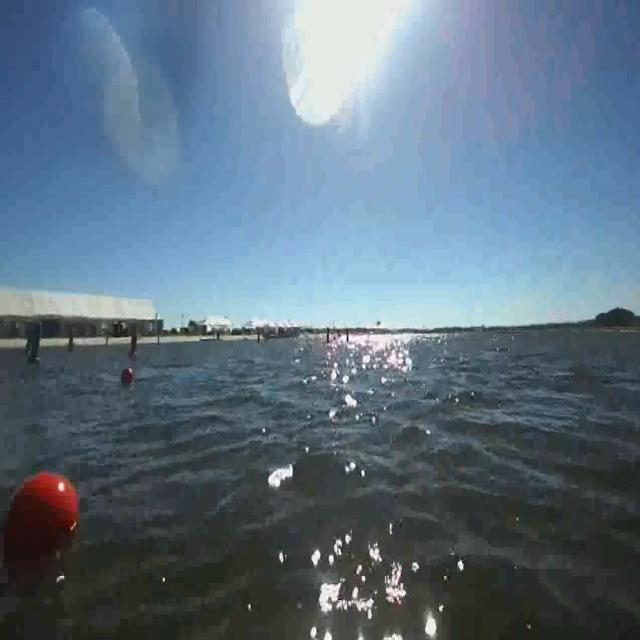green-column-buoy: (31, 320, 40, 368)
red-buoy: (122, 369, 136, 387)
red-column-buoy: (2, 470, 78, 560)
